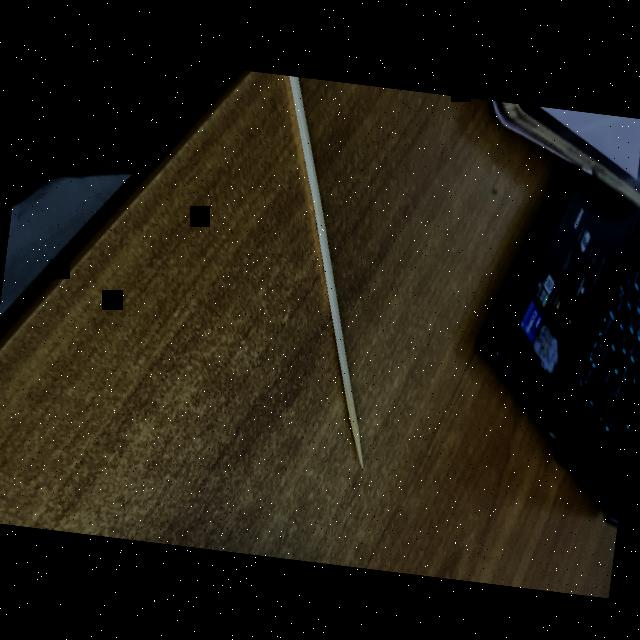stick: (182, 67, 426, 486)
